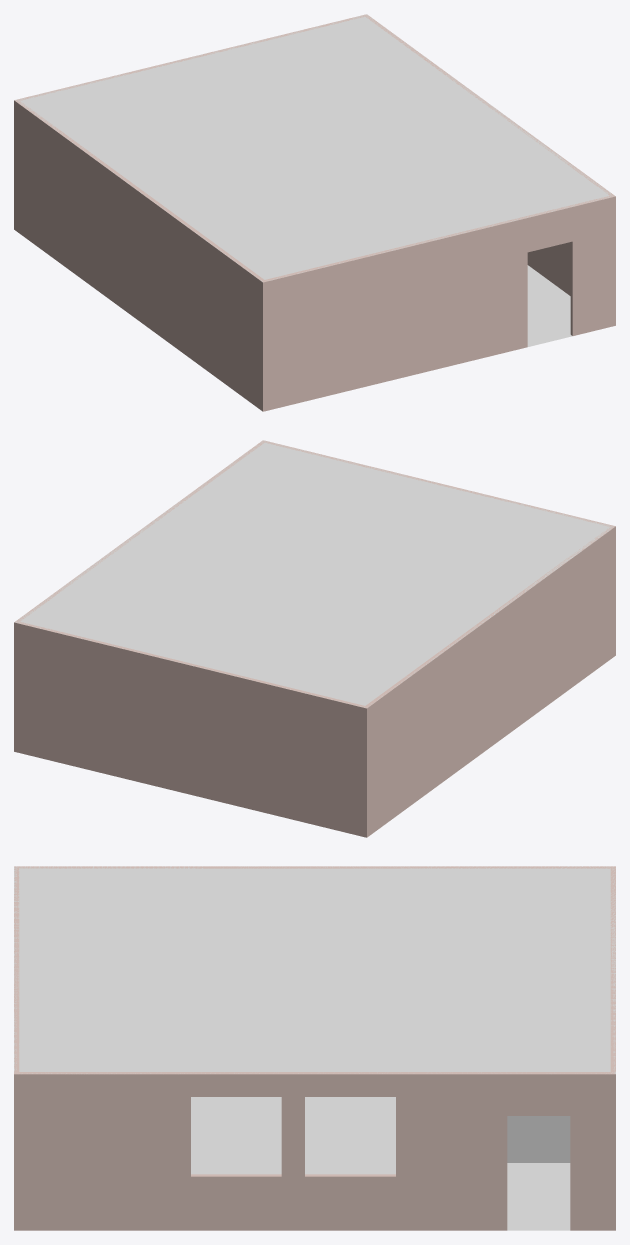
Rendered from baselib.fbx.
The picture shows the model from 3 angles, top to bottom: view 1: azimuth 30°, elevation 25°; view 2: azimuth 150°, elevation 25°; view 3: azimuth 270°, elevation 25°; orthographic projection. The views are drawn at different scales.
Visible parts, largest first — view 1: Ceiling, Room, Floor; view 2: Ceiling, Room; view 3: Ceiling, Room, Floor, Cube.
Boxes of the visible parts, x1,y1,x2,y2 form: Ceiling: (14, 14, 614, 281); Room: (14, 14, 615, 411); Floor: (527, 265, 572, 346); Ceiling: (14, 440, 613, 707); Room: (14, 440, 615, 837); Ceiling: (14, 866, 615, 1074); Room: (14, 866, 615, 1230); Floor: (191, 1097, 570, 1230); Cube: (507, 1116, 570, 1162).
Size of the model in its own units: 900 by 316 by 1100.
